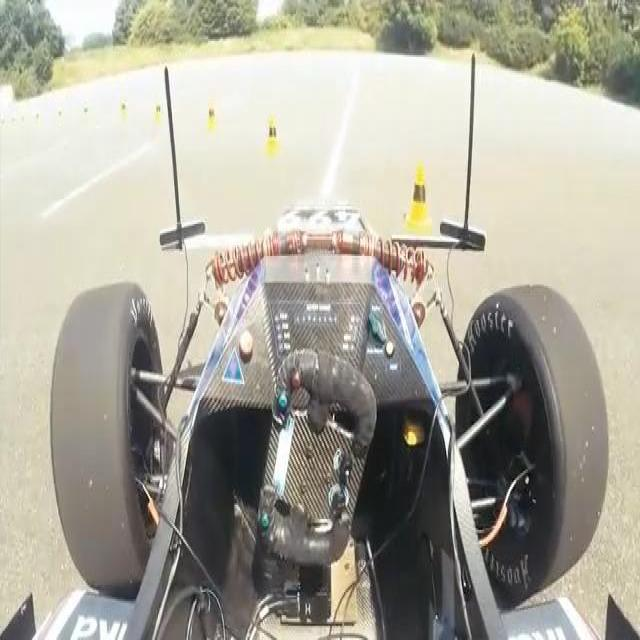yellow_cone: (394, 167, 439, 222), (259, 107, 282, 156), (199, 100, 221, 134)
